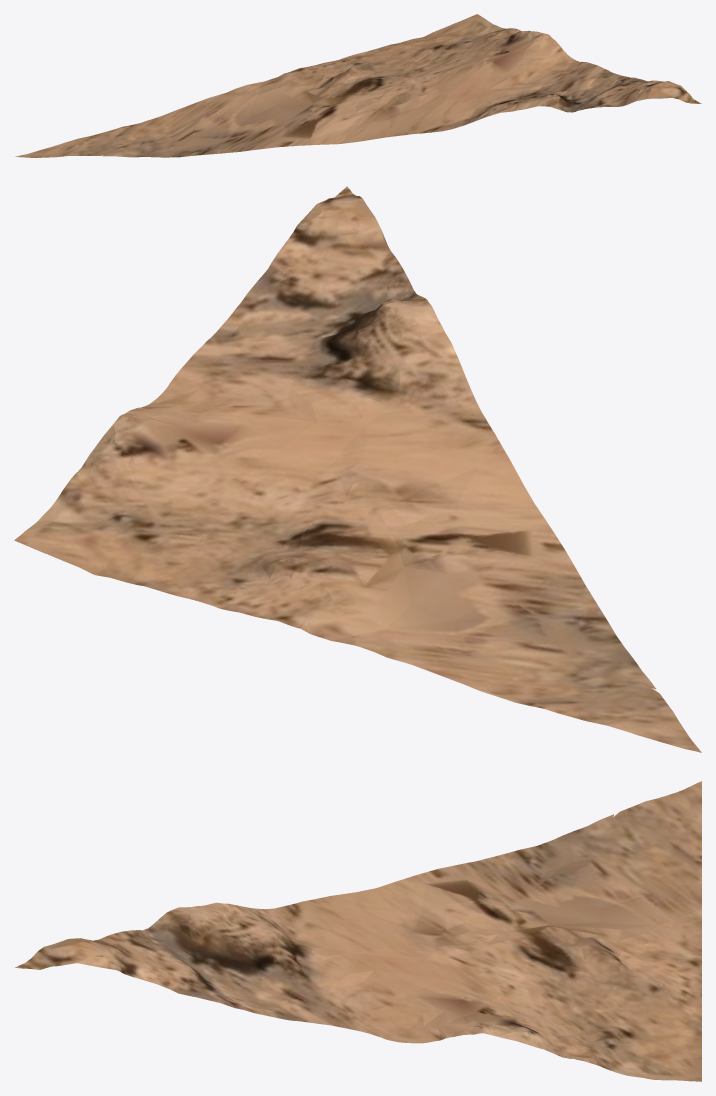
3 renders of one model, top to bottom at view 1: azimuth 30°, elevation 25°; view 2: azimuth 150°, elevation 25°; view 3: azimuth 270°, elevation 25°, orthographic. The views are drawn at different scales.
Size of the model in its own units: 9.65 by 2.17 by 8.09.
Materials: 1 (1 with a texture image).
